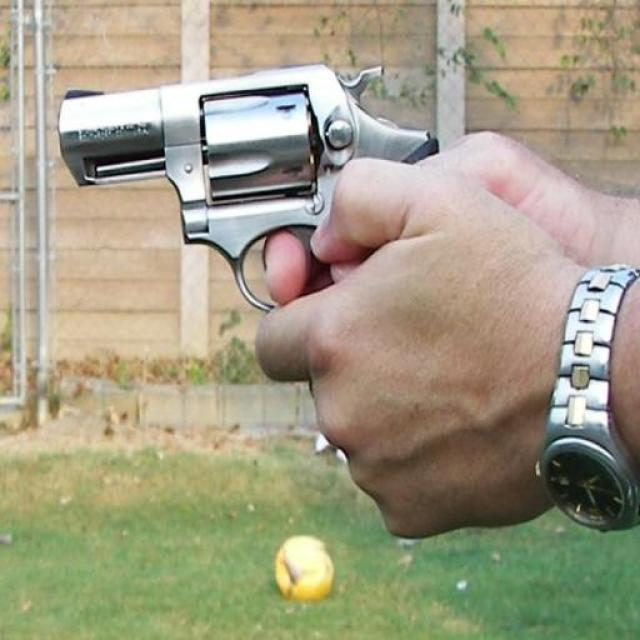pistol: (56, 51, 440, 313)
